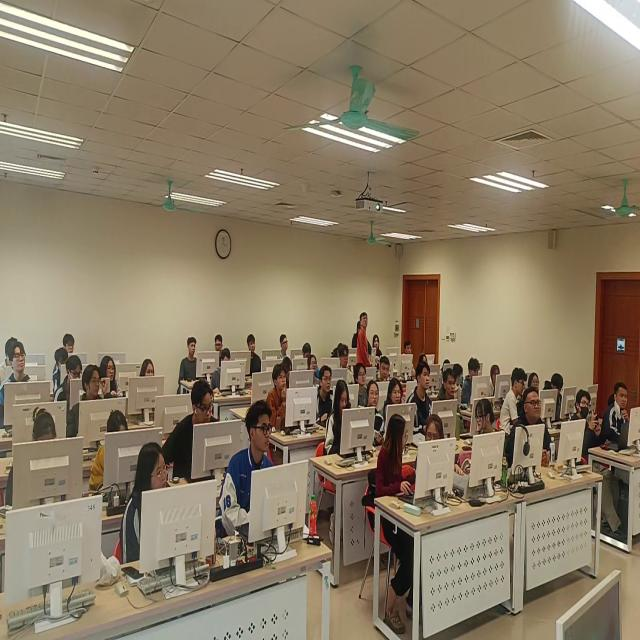raise_head: (224, 403, 300, 548), (126, 455, 194, 574), (515, 392, 554, 478), (4, 346, 49, 416), (77, 368, 119, 438), (269, 368, 311, 433), (609, 384, 639, 461), (96, 357, 129, 413), (134, 357, 162, 419), (413, 364, 434, 431), (367, 385, 388, 441), (440, 372, 464, 420), (317, 368, 337, 424), (245, 331, 264, 377), (388, 378, 408, 420), (337, 346, 356, 387), (379, 355, 398, 386), (280, 331, 298, 362), (63, 333, 81, 358), (403, 342, 416, 371), (373, 333, 384, 359)
stand: (359, 310, 374, 374)
using_computer: (13, 416, 69, 510), (176, 386, 229, 479), (100, 421, 140, 499), (335, 381, 359, 462), (213, 350, 245, 398), (179, 337, 208, 387), (551, 369, 574, 425), (466, 358, 488, 409), (61, 363, 86, 407), (488, 365, 514, 405)
using_phone: (571, 393, 605, 481)
